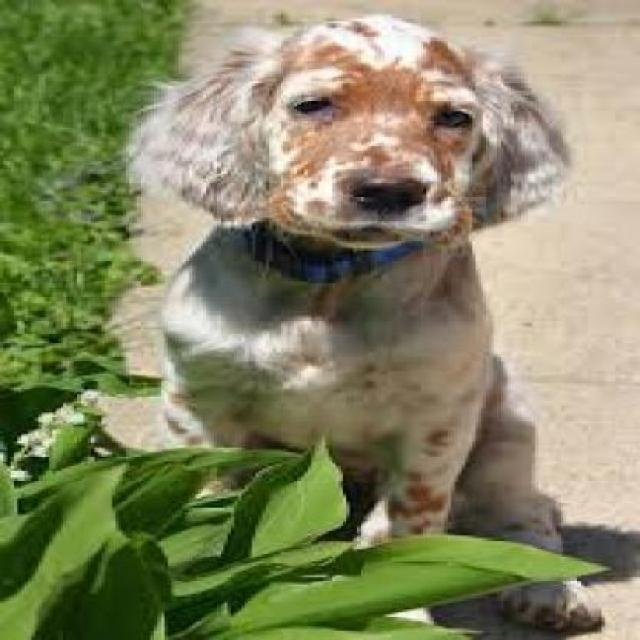animals: (70, 11, 638, 640)
